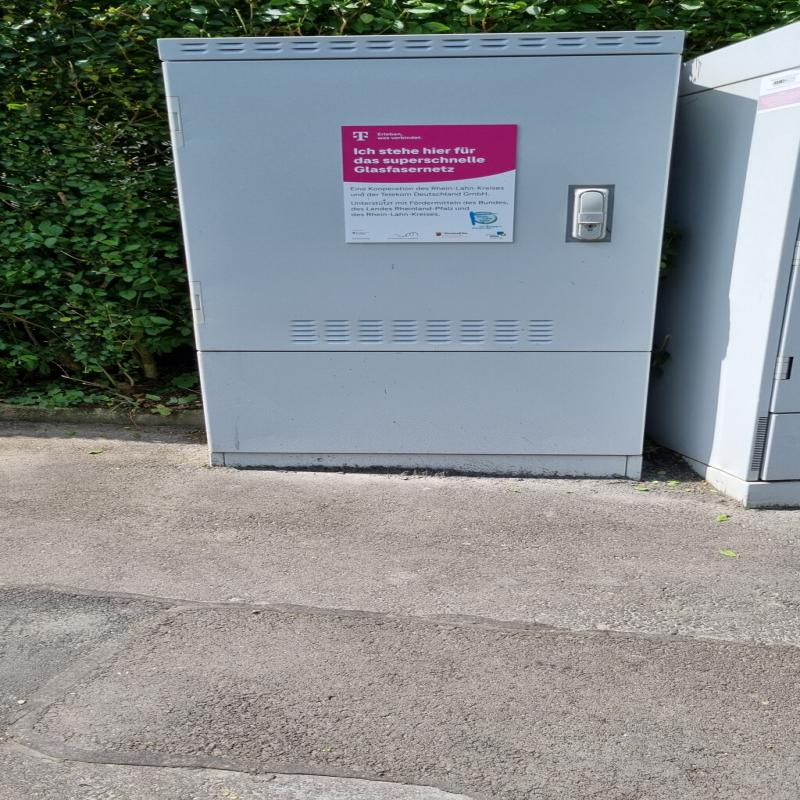NT-Gehause: (153, 32, 688, 462)
Steaker: (340, 123, 511, 243)
